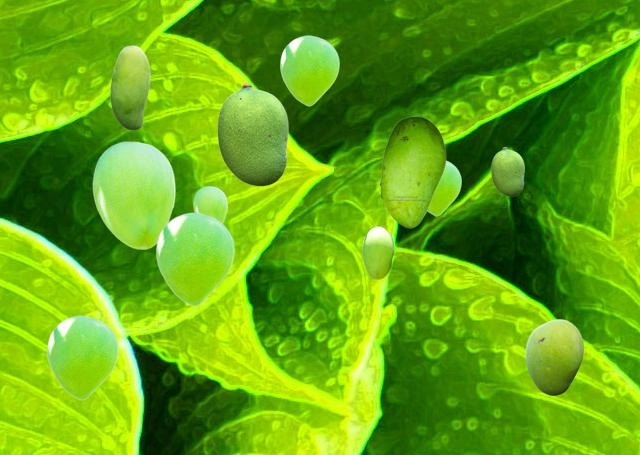green_mango: (92, 141, 174, 248), (379, 116, 445, 227), (156, 212, 233, 305), (217, 83, 287, 185), (47, 315, 117, 399), (525, 319, 582, 394), (280, 35, 338, 105), (110, 45, 149, 129), (428, 160, 460, 215), (362, 226, 393, 278), (491, 147, 523, 195), (193, 186, 226, 223)
